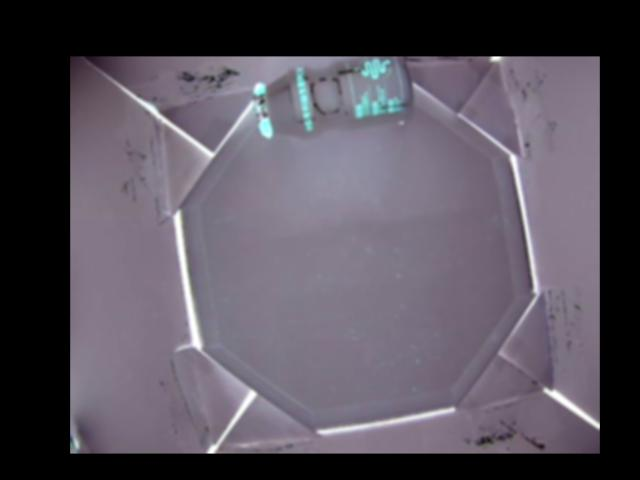Bottle: (254, 57, 414, 144)
